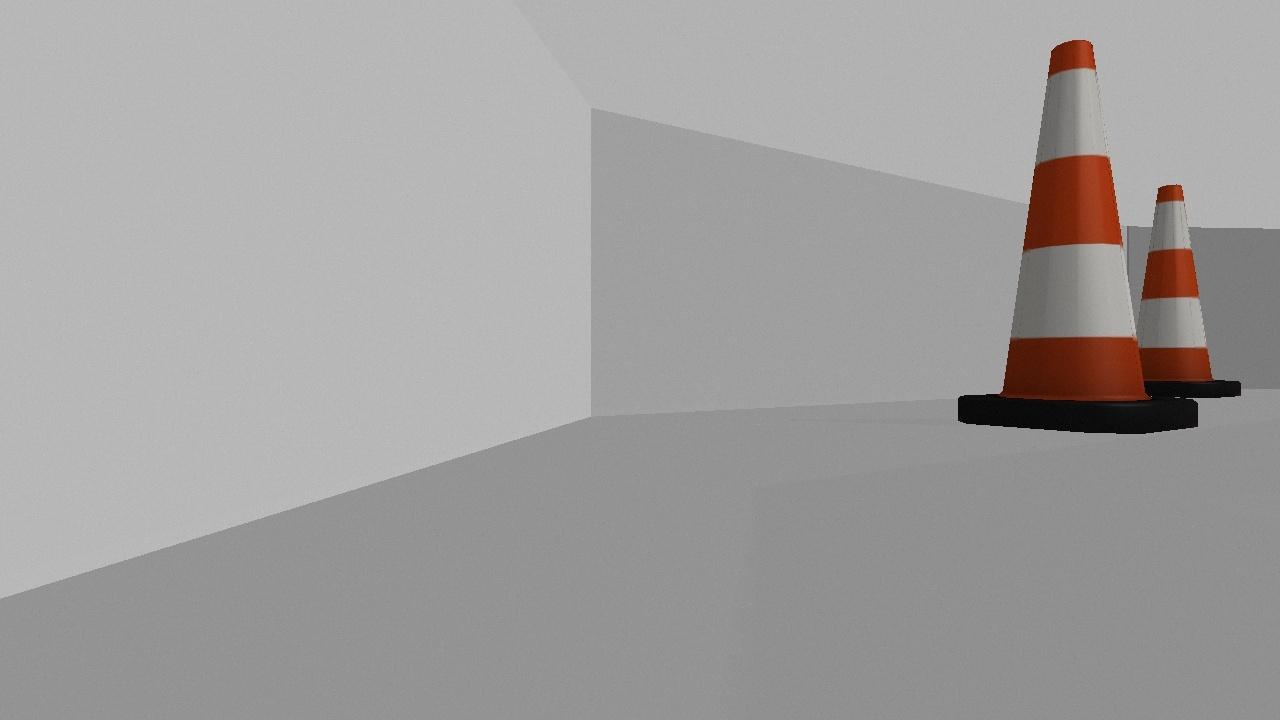cone_barrel: (955, 37, 1197, 435), (1110, 181, 1240, 396)
